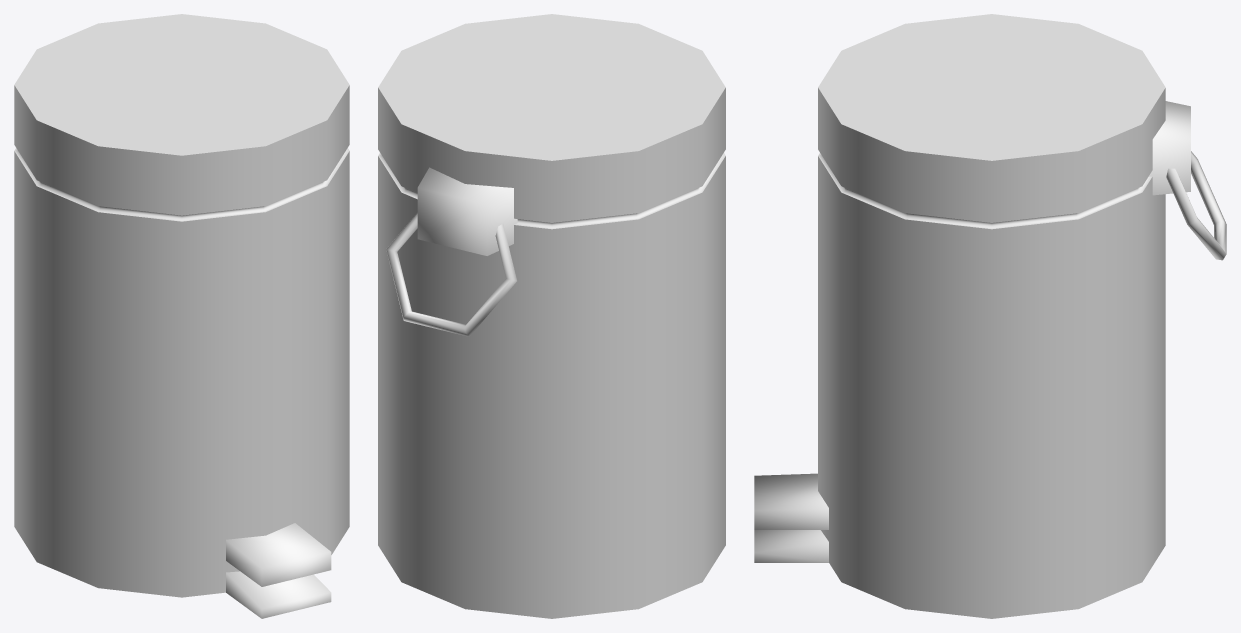
File: Trashbin.fbx
The picture shows the model from 3 angles, left to right: view 1: azimuth 30°, elevation 25°; view 2: azimuth 150°, elevation 25°; view 3: azimuth 270°, elevation 25°; orthographic projection. The views are drawn at different scales.
Visible parts, largest first — view 1: Trashbin; view 2: Trashbin; view 3: Trashbin.
Part boxes in pixels (x1,y1,x2,y2): Trashbin: (14,14,349,618); Trashbin: (378,14,725,618); Trashbin: (754,14,1226,618).
Size of the model in its own units: 0.4086 by 0.5938 by 0.5547.
